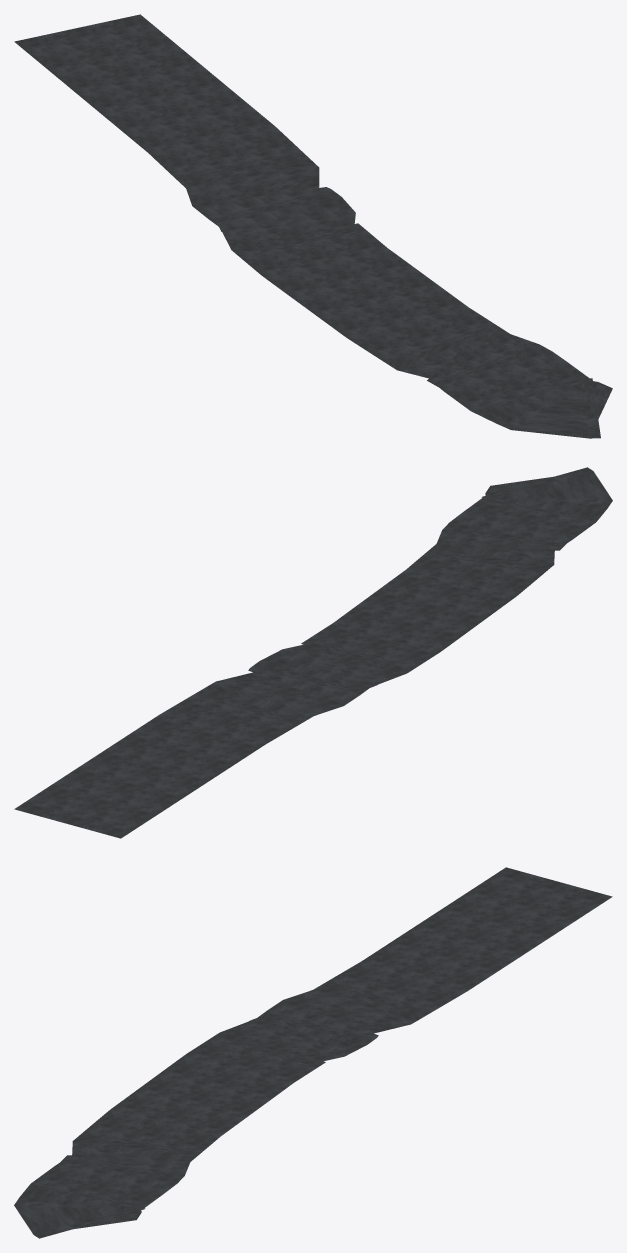
Rendered from RD-ROAD-015.obj.
3 views of the same model, one above another, from view 1: azimuth 30°, elevation 25°; view 2: azimuth 150°, elevation 25°; view 3: azimuth 330°, elevation 25° (orthographic). The views are drawn at different scales.
Visible parts, largest first — view 1: RD-ROAD-015; view 2: RD-ROAD-015; view 3: RD-ROAD-015.
Part boxes in pixels (x1,y1,x2,y2): RD-ROAD-015: (14,14,612,438); RD-ROAD-015: (14,467,612,838); RD-ROAD-015: (14,867,612,1238).
Bounding box in the file's own units: 11.51 × 0 × 62.38.
1 material, 1 textured.
